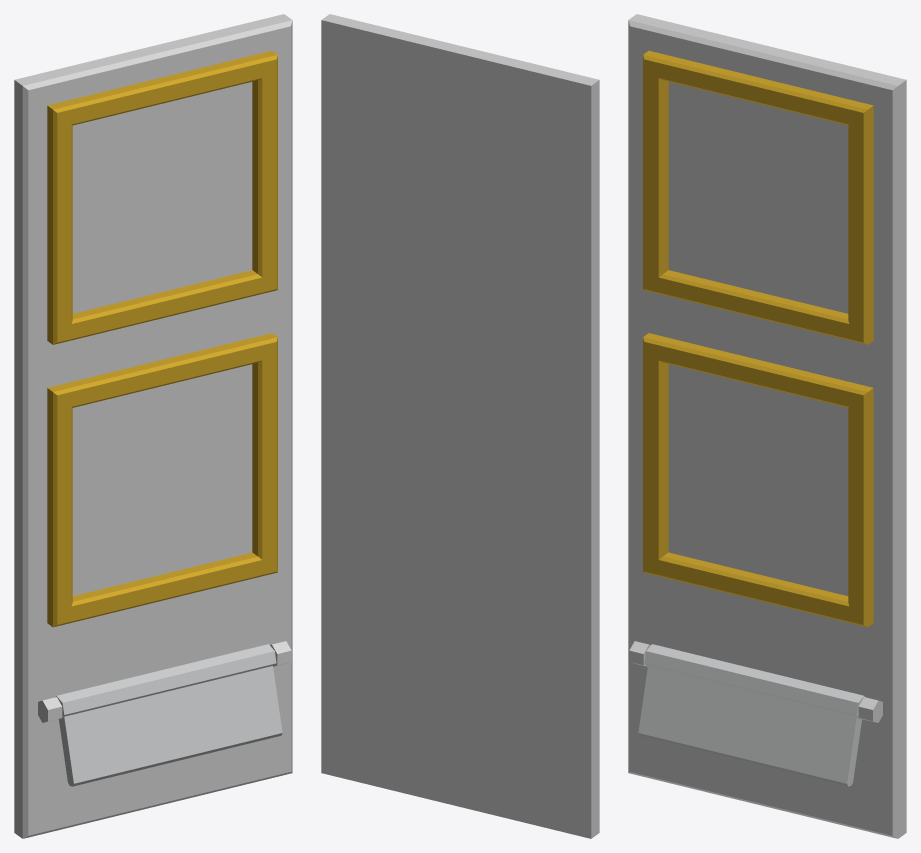
File: hazard-sign-plate-d54657.glb
3 renders of one model, left to right at view 1: azimuth 30°, elevation 25°; view 2: azimuth 150°, elevation 25°; view 3: azimuth 330°, elevation 25°, orthographic.
Parts seen in each view (by area): view 1: hazard-sign-plate, flap; view 2: hazard-sign-plate; view 3: hazard-sign-plate, flap.
Boxes of the visible parts, bbox=[...] form: hazard-sign-plate: bbox=[14, 14, 292, 838]; flap: bbox=[55, 644, 282, 786]; hazard-sign-plate: bbox=[321, 14, 599, 838]; hazard-sign-plate: bbox=[628, 14, 906, 838]; flap: bbox=[638, 644, 865, 786].
Size of the model in its own units: 0.3 by 0.8 by 0.0557.
